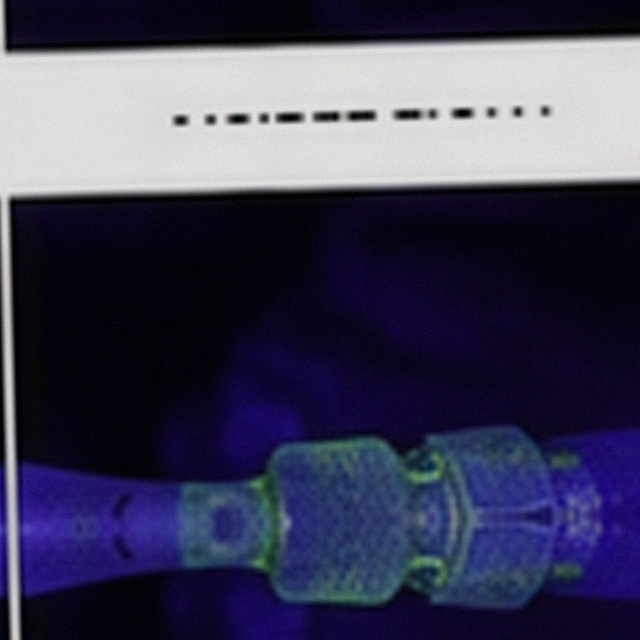hydraulic_oil_leak: (249, 477, 281, 569), (390, 449, 458, 484), (395, 553, 460, 585), (311, 439, 388, 466), (315, 575, 391, 601), (413, 582, 418, 586), (410, 452, 415, 456), (214, 547, 218, 551), (554, 458, 557, 460), (517, 450, 520, 452)
